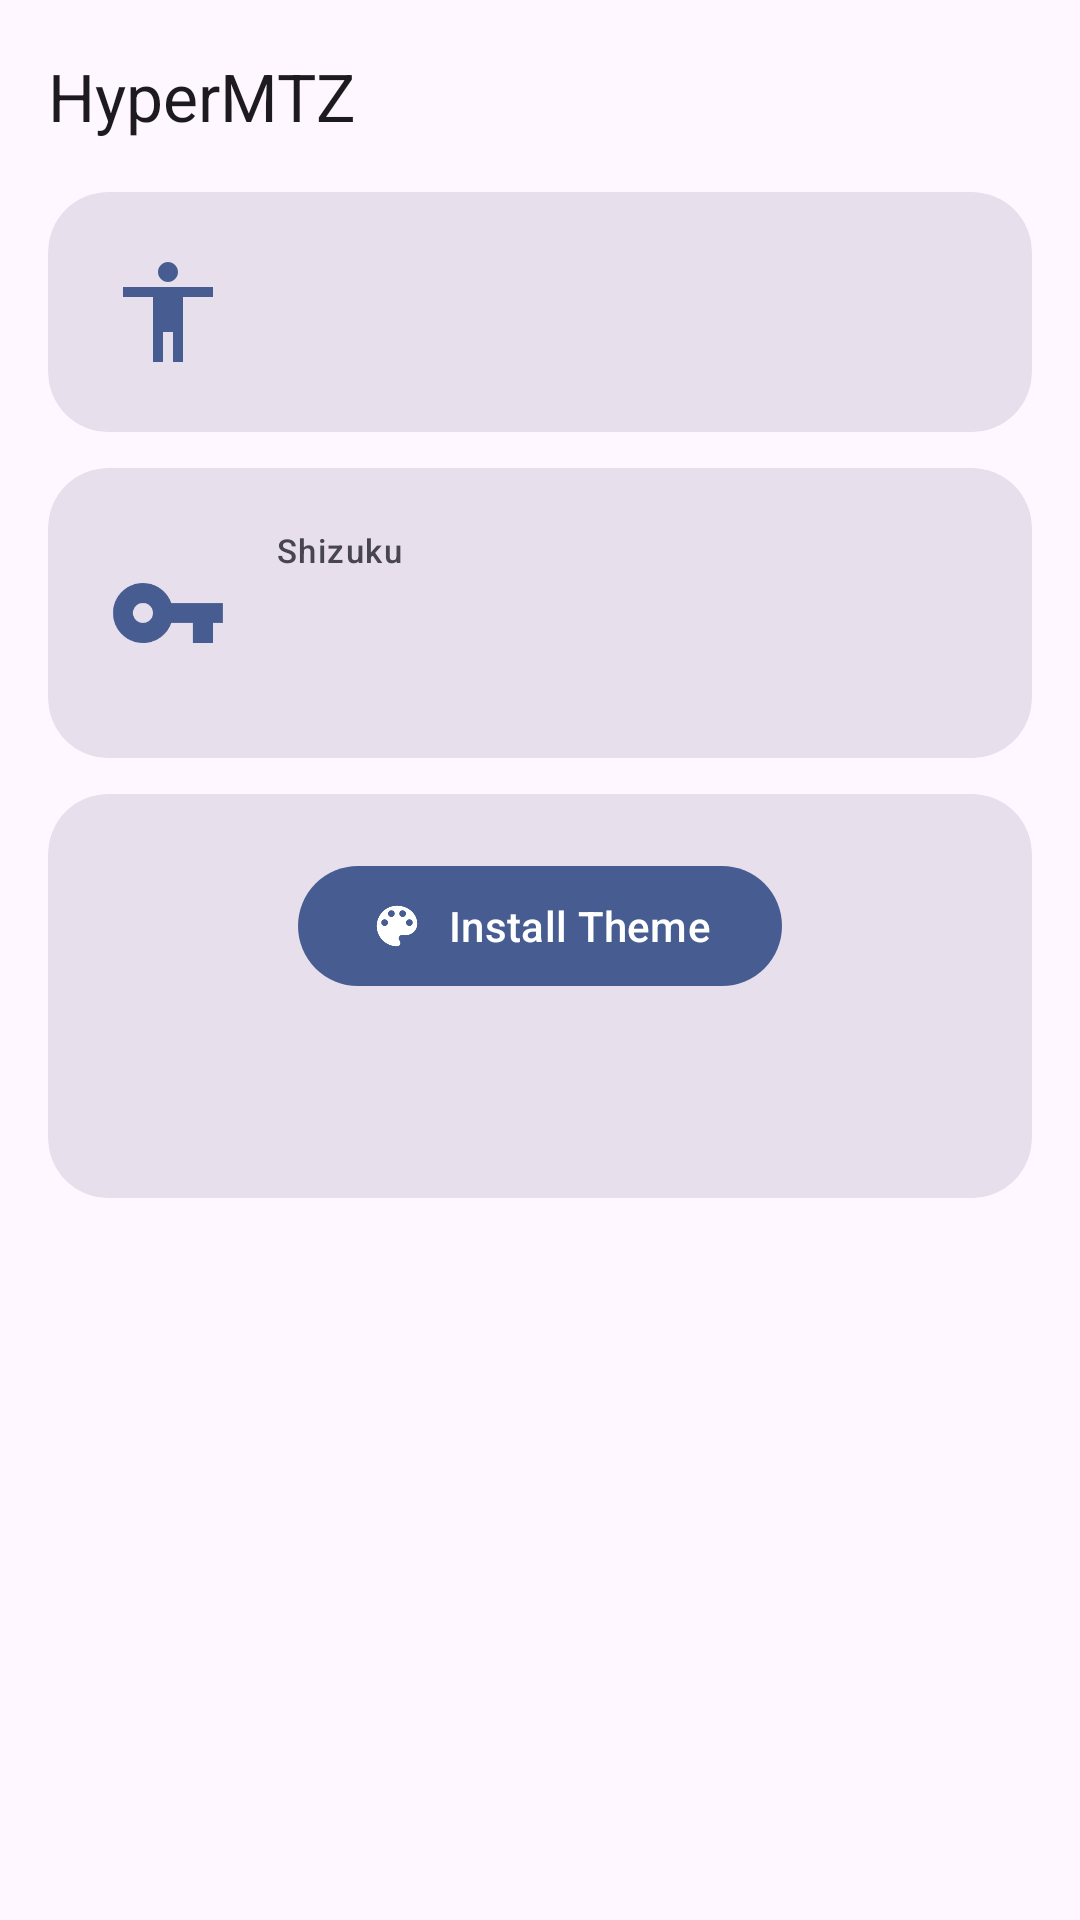

Icons on this 1080x1920 Android screen, each with the point to tap as [x,y]:
accessibility: [168,312]
